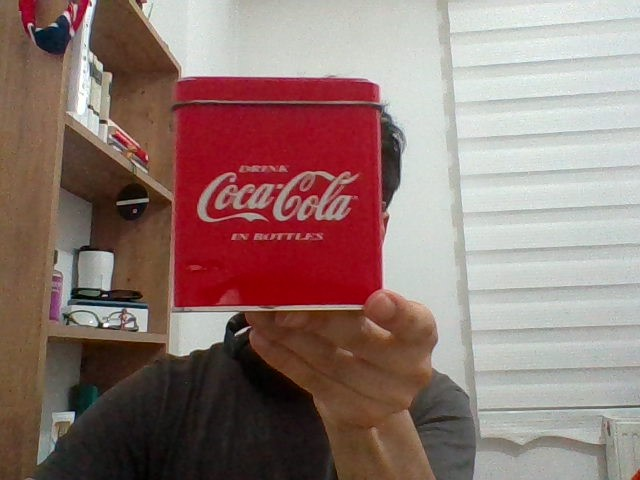CocaColaBox: (170, 79, 402, 311)
